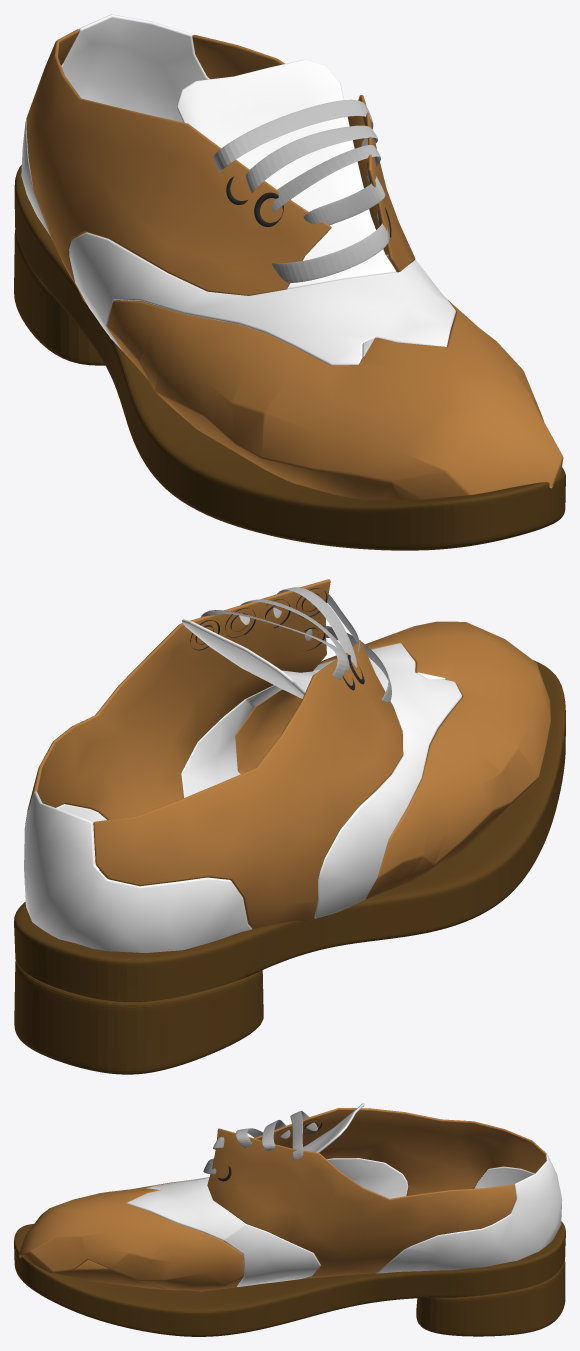
Rendered from za2in2derecha.fbx.
3 views of the same model, one above another, from view 1: azimuth 30°, elevation 25°; view 2: azimuth 150°, elevation 25°; view 3: azimuth 270°, elevation 25° (orthographic). The views are drawn at different scales.
Parts seen in each view (by area): view 1: zapato2, Plane, Plane.004, Plane.005, Plane.003, Plane.001, Plane.002; view 2: zapato2, Plane, Plane.001, Plane.004; view 3: zapato2, Plane, Plane.004, Plane.003, Plane.001.
Boxes of the visible parts, x1,y1,x2,y2 form: zapato2: (21, 14, 563, 499); Plane: (14, 165, 565, 550); Plane.004: (213, 99, 373, 171); Plane.005: (272, 212, 389, 282); Plane.003: (246, 125, 377, 192); Plane.001: (272, 145, 380, 211); Plane.002: (303, 174, 385, 225); zapato2: (24, 579, 550, 952); Plane: (14, 660, 565, 1074); Plane.001: (273, 587, 357, 667); Plane.004: (200, 610, 347, 679); zapato2: (18, 1103, 562, 1291); Plane: (14, 1221, 565, 1336); Plane.004: (290, 1110, 317, 1160); Plane.003: (262, 1119, 290, 1150); Plane.001: (235, 1128, 262, 1148).
Size of the model in its own units: 169 by 176 by 447.
